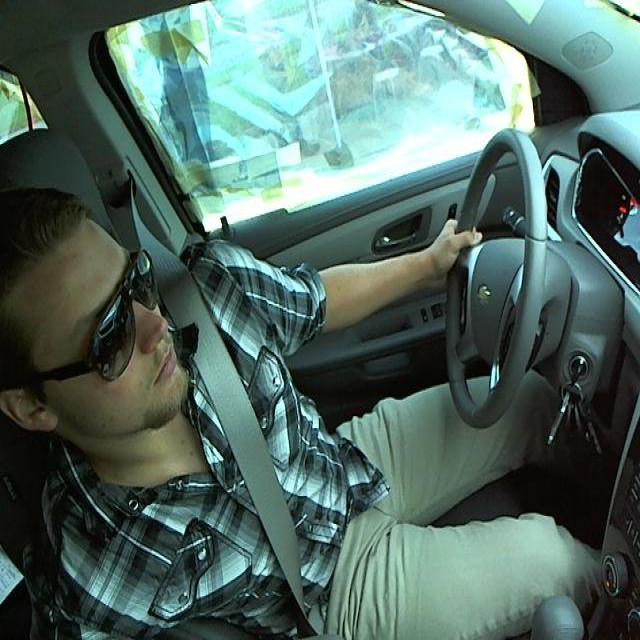seatbelt: (189, 356, 333, 633)
